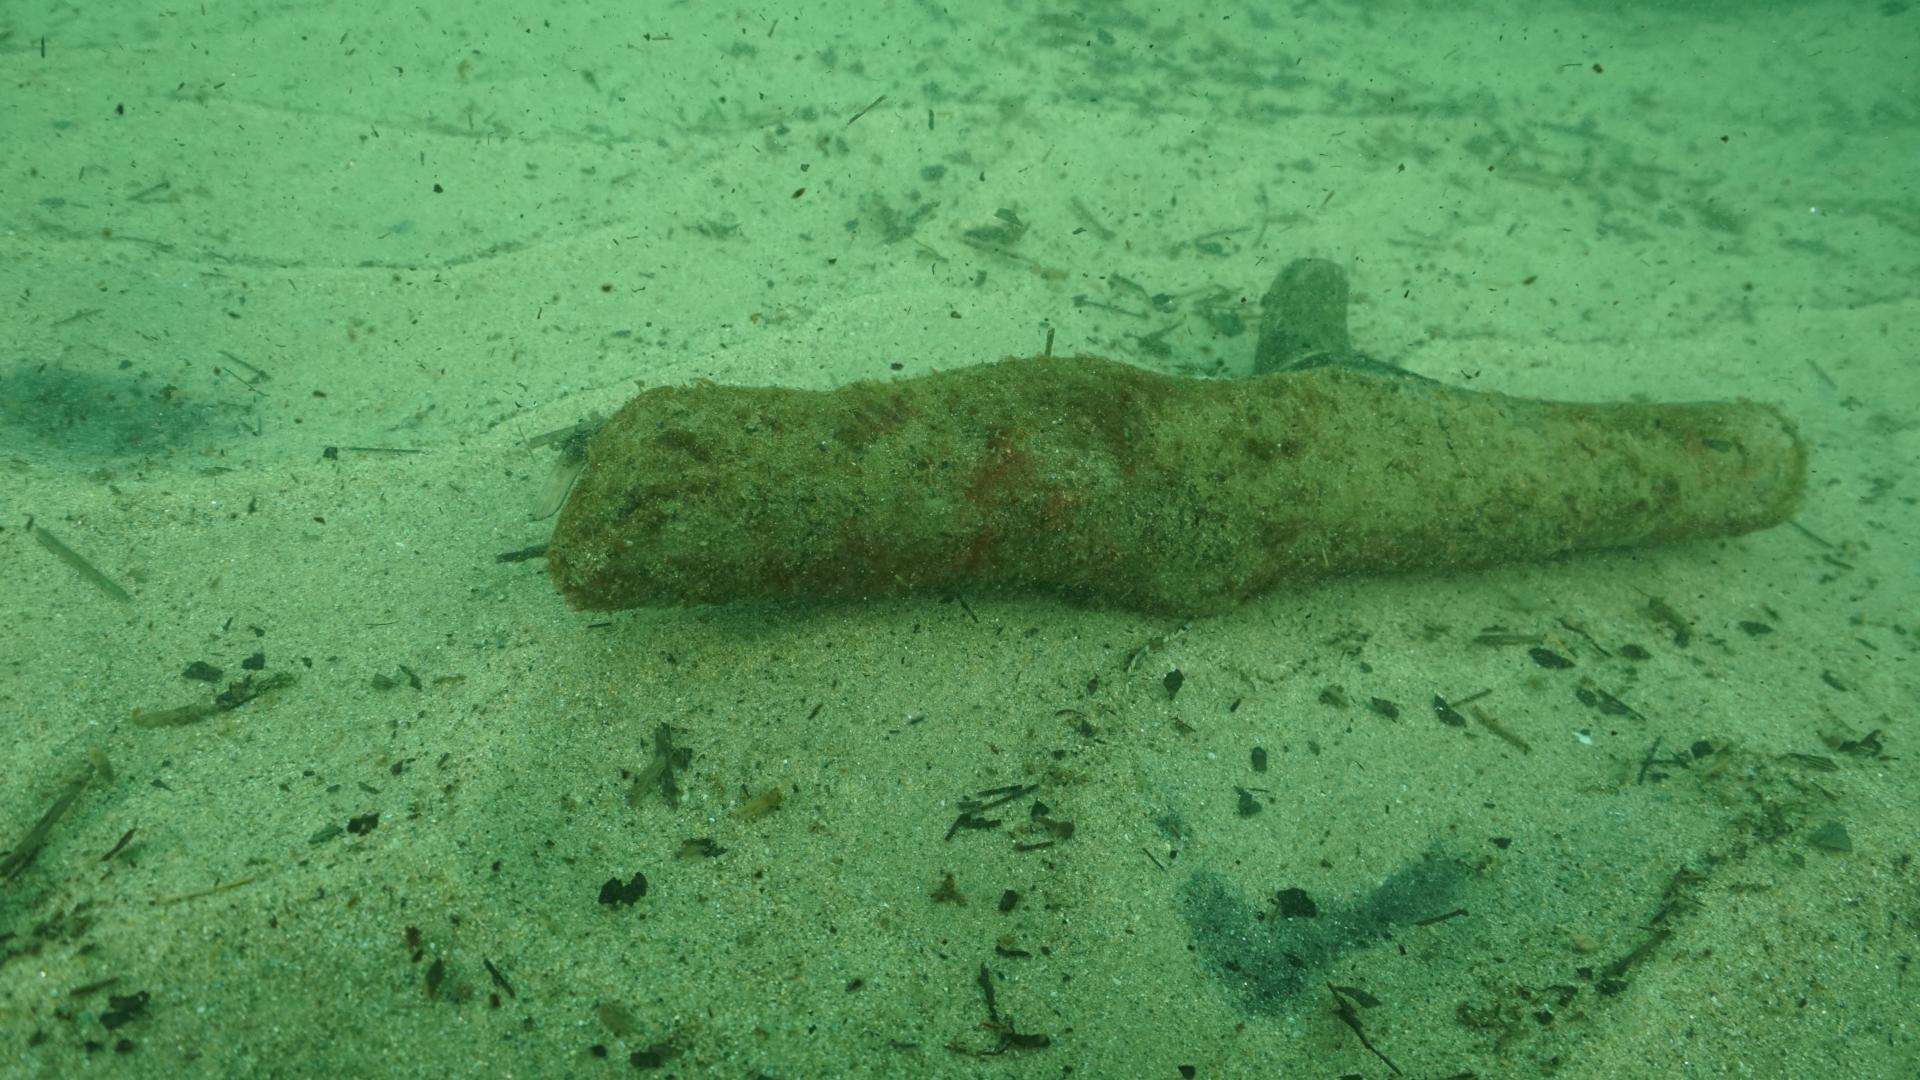wood: (553, 260, 1809, 607)
